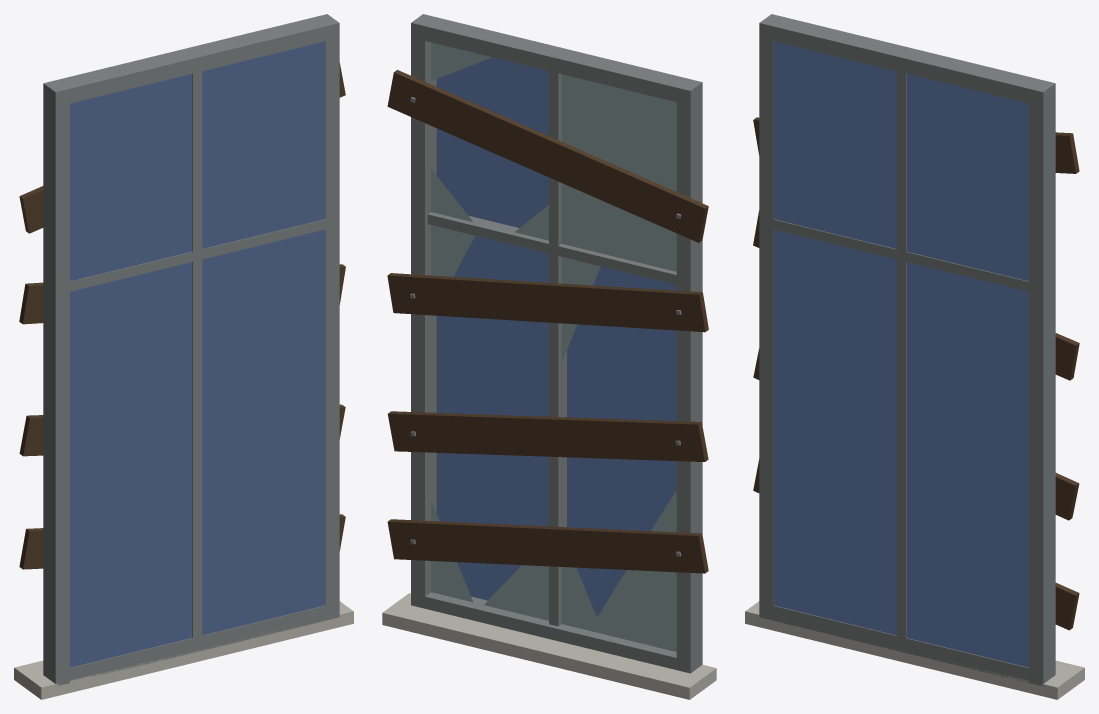
File: window_boarded.fbx
3 views of the same model, side by side, from view 1: azimuth 30°, elevation 25°; view 2: azimuth 150°, elevation 25°; view 3: azimuth 330°, elevation 25° (orthographic).
Visible parts, largest first — view 1: window_boarded; view 2: window_boarded; view 3: window_boarded.
Part boxes in pixels (x1,y1,x2,y2): window_boarded: (14, 14, 353, 699); window_boarded: (382, 14, 716, 699); window_boarded: (745, 14, 1084, 699).
Bounding box in the file's own units: 1.37 × 2.44 × 0.2.
